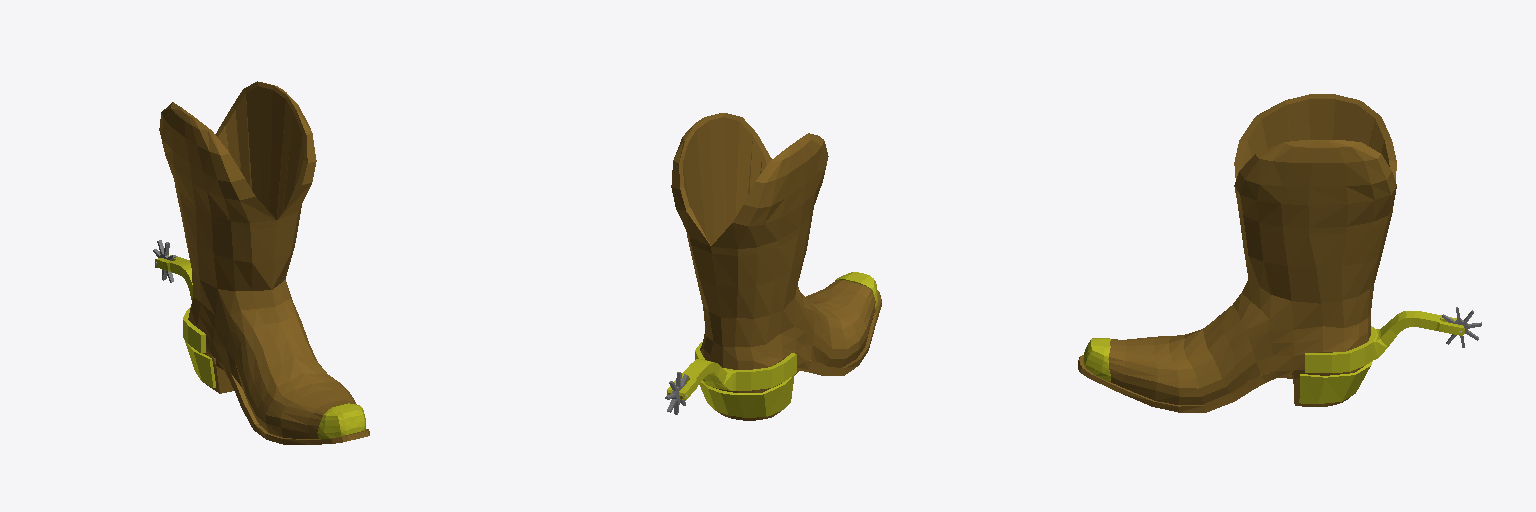
3 views of the same model, side by side, from view 1: azimuth 30°, elevation 25°; view 2: azimuth 150°, elevation 25°; view 3: azimuth 270°, elevation 25° (orthographic).
Visible parts, largest first — view 1: Cylinder.001, Cube, Cube.001; view 2: Cylinder.001, Cube, Cube.001; view 3: Cylinder.001, Cube, Cube.001.
Boxes of the visible parts, x1,y1,x2,y2 form: Cylinder.001: [159, 81, 369, 444]; Cube: [155, 255, 205, 353]; Cube.001: [184, 339, 215, 387]; Cylinder.001: [671, 113, 881, 420]; Cube: [667, 342, 796, 400]; Cube.001: [699, 375, 794, 417]; Cylinder.001: [1078, 94, 1396, 412]; Cube: [1305, 311, 1464, 372]; Cube.001: [1299, 361, 1372, 403].
Bounding box in the file's own units: 1.7 × 4.17 × 5.52.
2 materials, 1 textured.